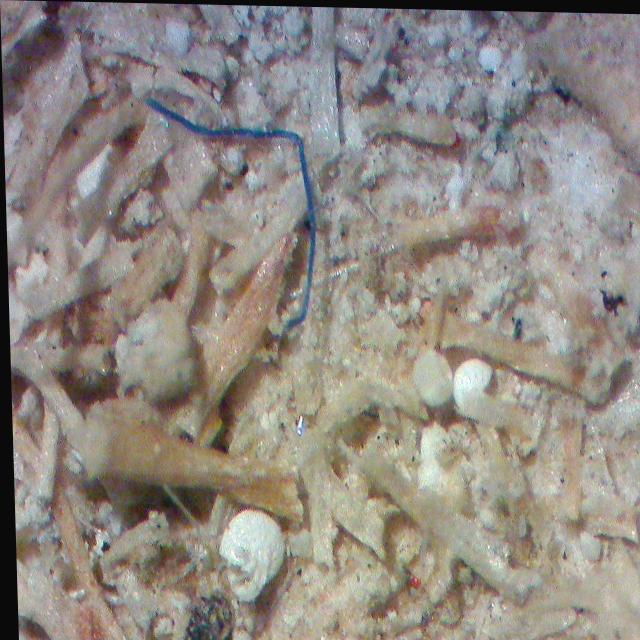microplastic: (143, 42, 381, 336)
